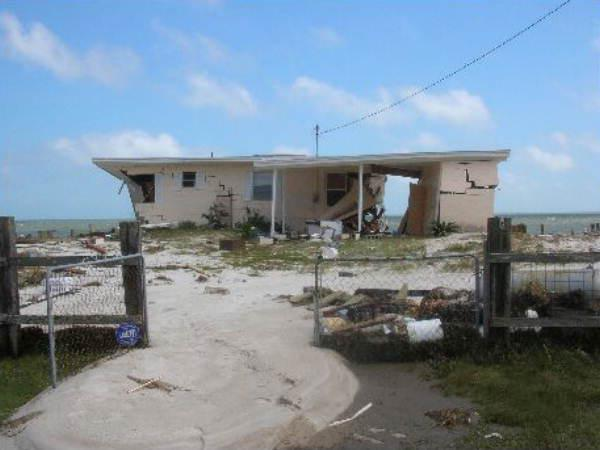destroyed: (91, 129, 540, 269)
